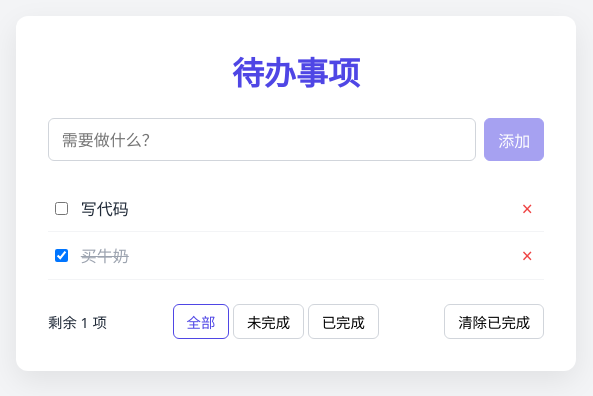
it: App › filters todos
Expected: the text "写代码" is shown, [81,196,129,220]
What coordinates should you click on to do the following:
click the button "未完成"
I would click on:
 (268, 322)
Its box is [233,304,304,339].
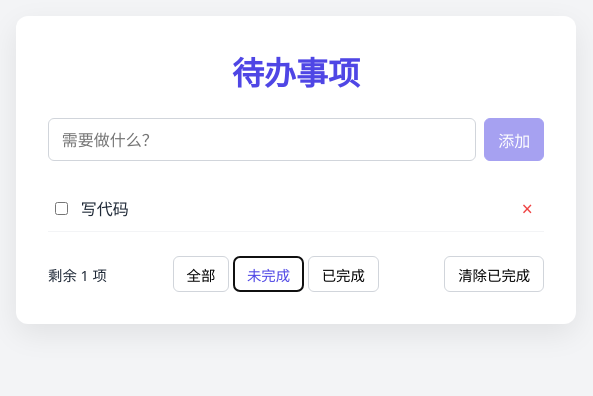
Expected: the number of list items is 1, [48,185,544,232]
Expected: the list item shows "写代码", [81,198,129,220]
What coordinates should you click on to do the following:
click the button "已完成"
I would click on:
 (343, 274)
Its box is [308,256,379,292].
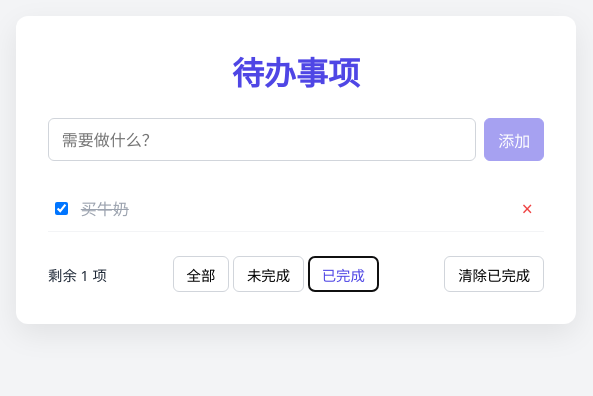
Expected: the list item shows "买牛奶", [81,198,129,220]
What coordinates should you click on to do the following:
click the button "全部"
I would click on:
 (201, 274)
Its box is [173,256,229,292].
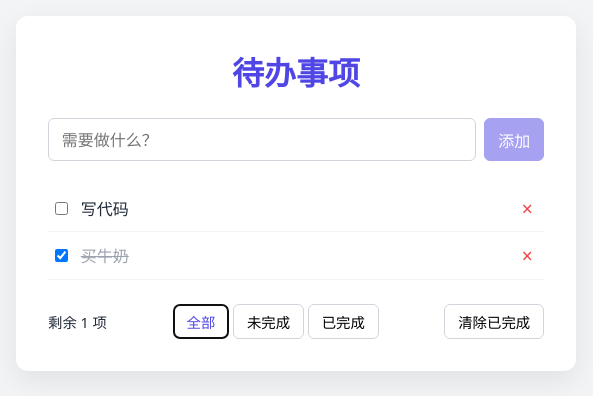
Expected: the number of list items is 2, [48,185,544,232]; [48,232,544,280]
